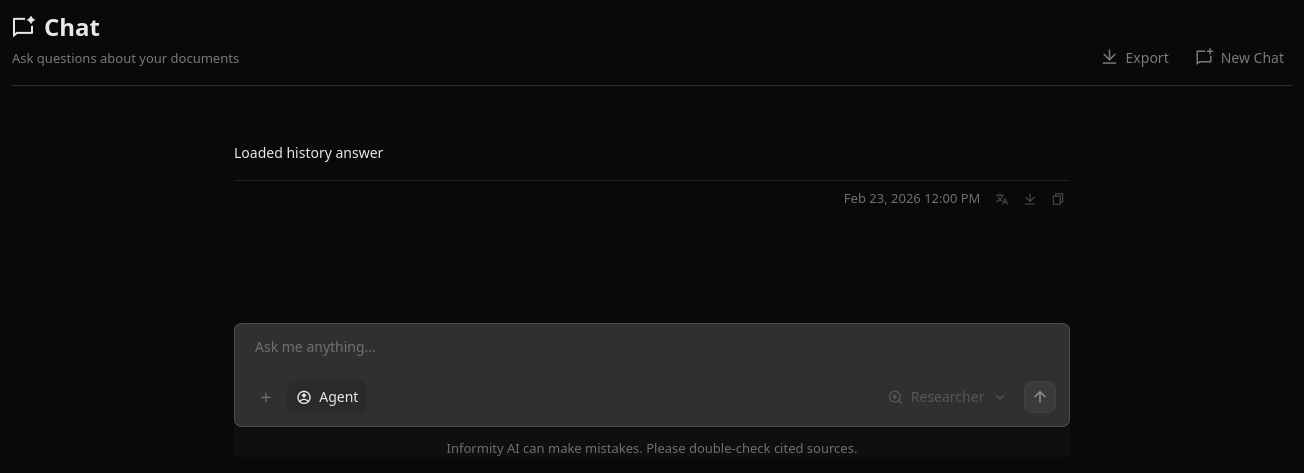
Test: ChatView new chat behavior › does not reselect initial history chat after New Chat
The image size is (1304, 473).
Expected: the text "Loaded history answer" is shown, [234, 142, 383, 162]
Expected: the button with aria-label "Disable agent mode" is shown, [287, 381, 367, 413]
What coordinates should you click on to do the following:
click the button with aria-label "Start New Chat"
I would click on:
 (1238, 57)
Its box is [1185, 42, 1292, 72].
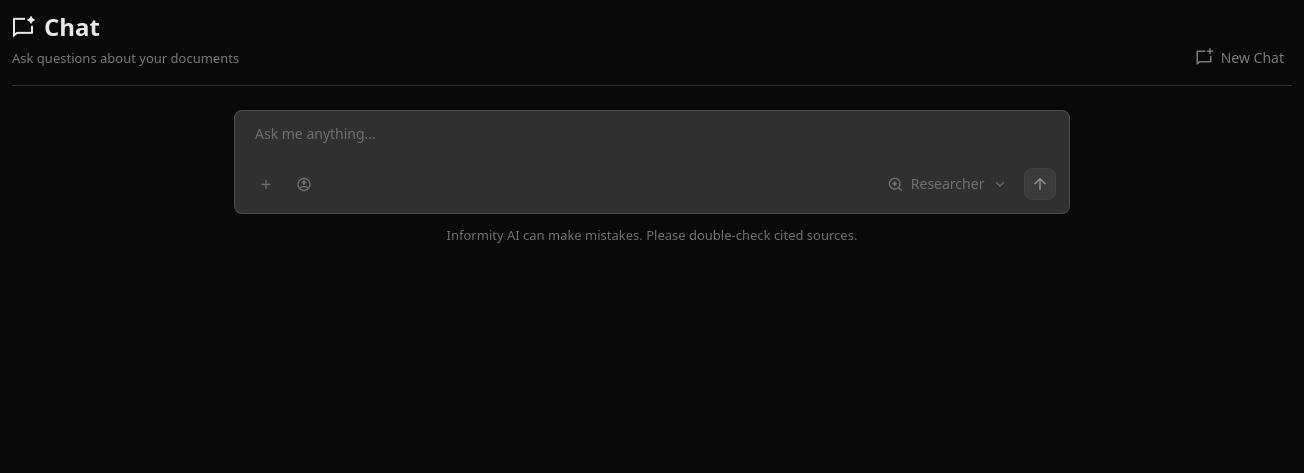
Now the button named "Enable agent mode" is shown, box [287, 168, 321, 200]
